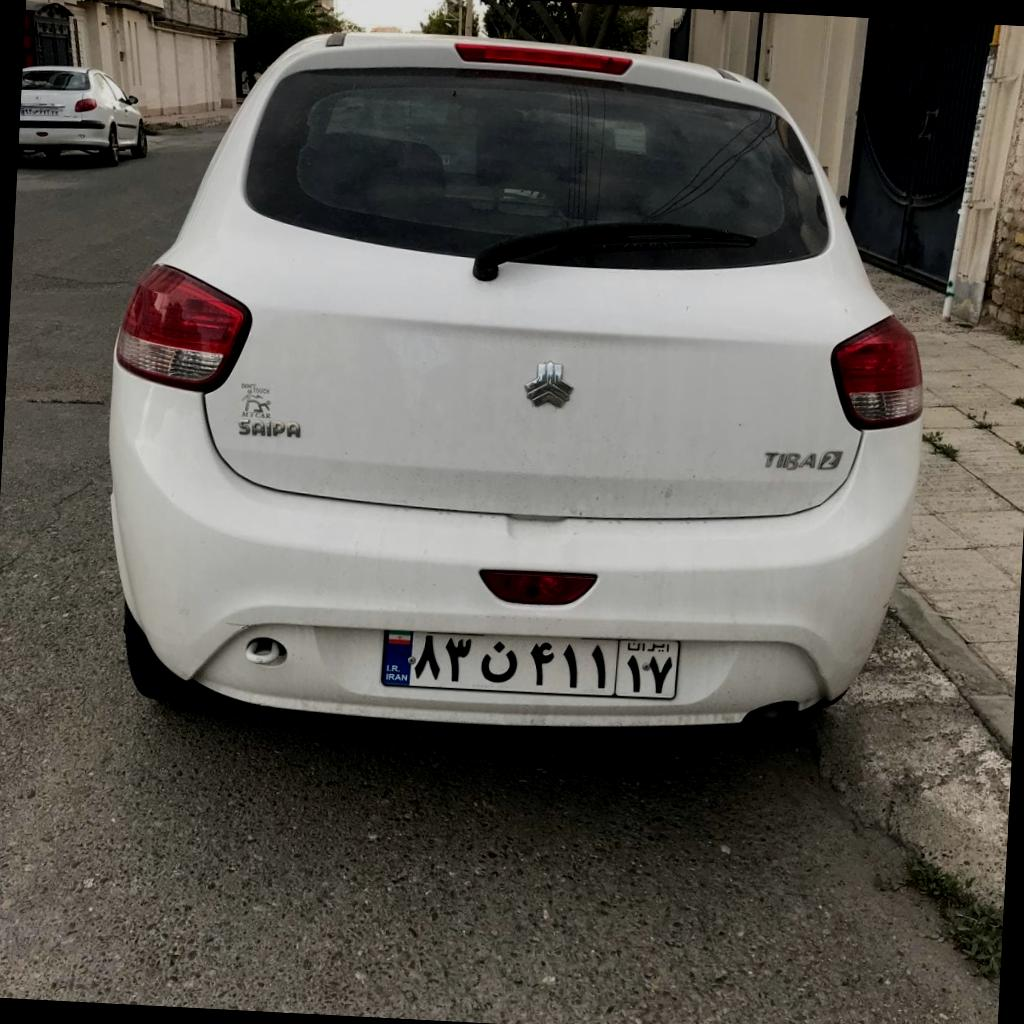Plates: (383, 630, 679, 699)
